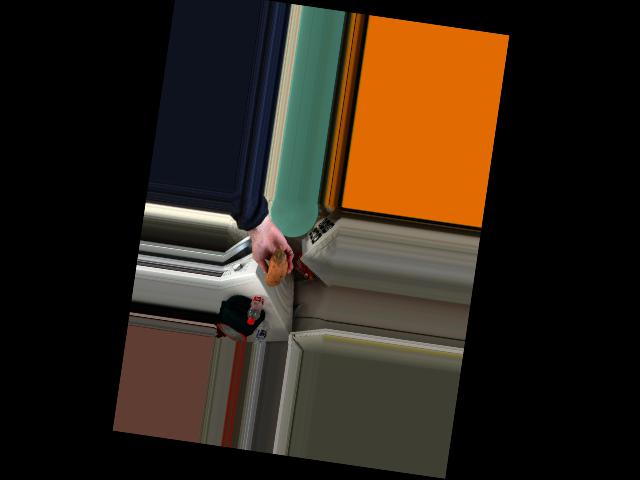sweet_potato: (261, 241, 288, 290)
